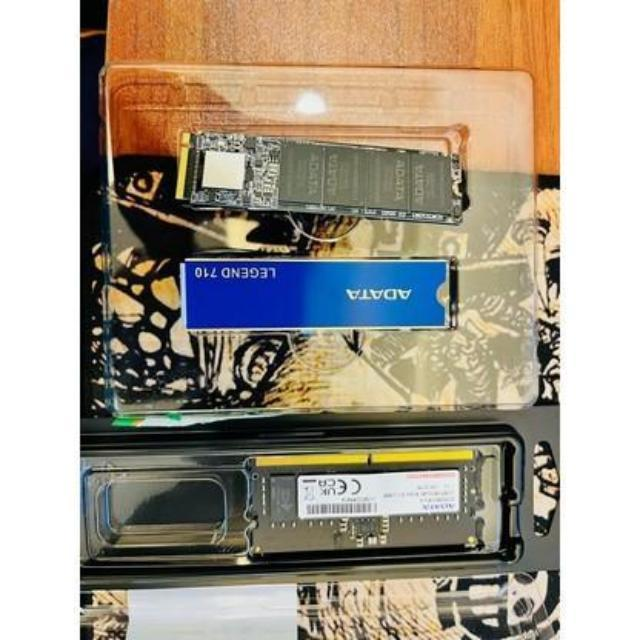RAM: (254, 456, 496, 562)
